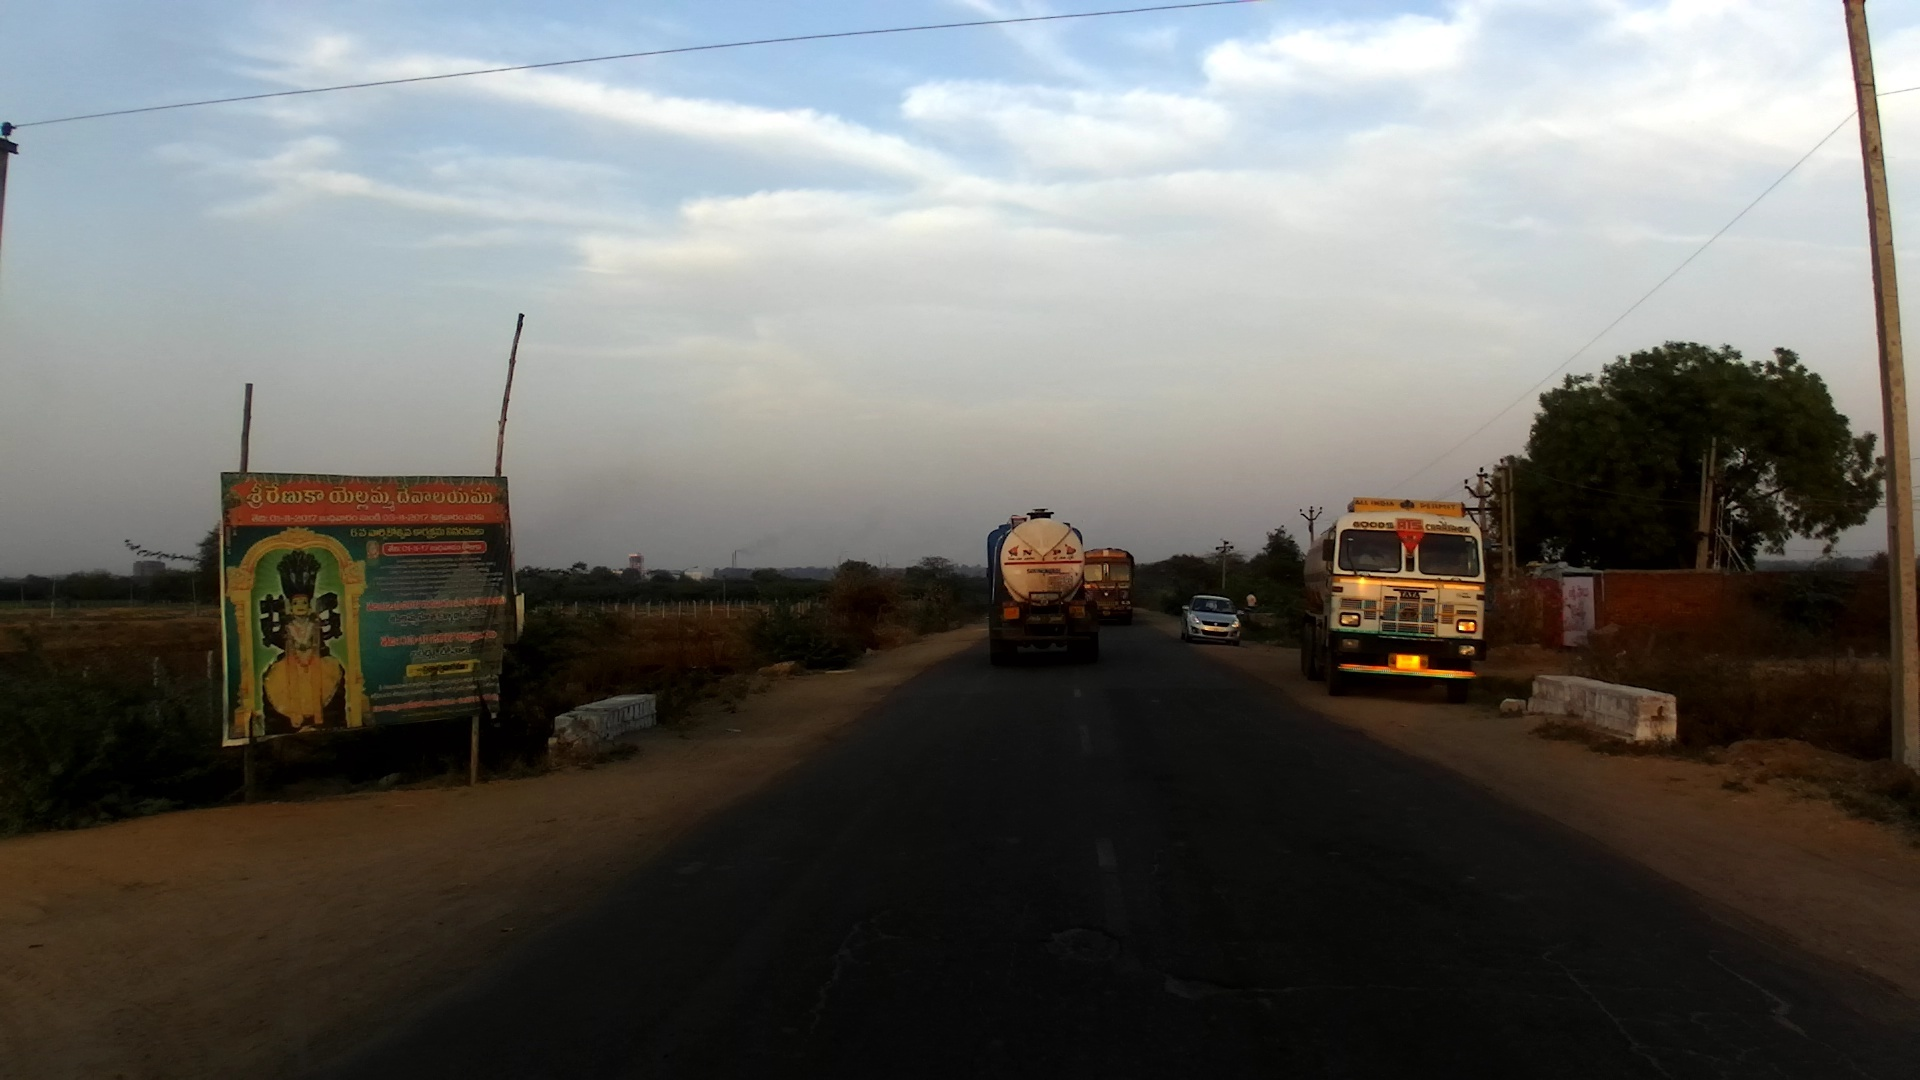car: (1179, 595, 1247, 646)
person: (1243, 594, 1261, 624)
truck: (1301, 488, 1497, 702), (983, 506, 1100, 674), (1081, 546, 1135, 628)
